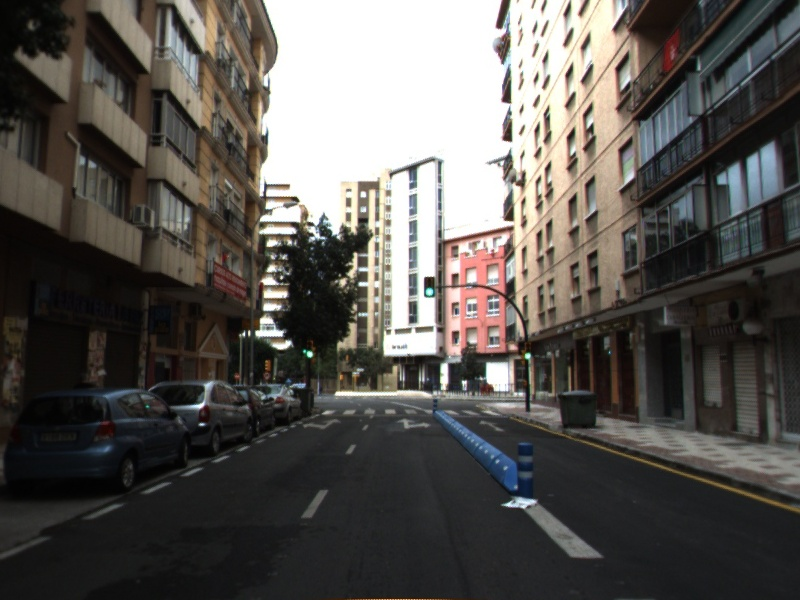STRAIGHT: (477, 419, 506, 433)
STRAIGHT_LEFT: (301, 417, 343, 431)
STRAIGHT_RIGHT: (394, 416, 433, 431)
